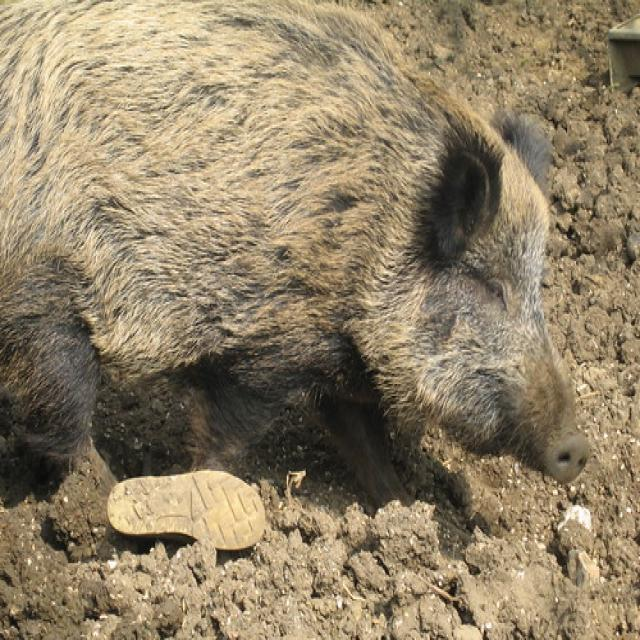boar: (0, 0, 621, 539)
